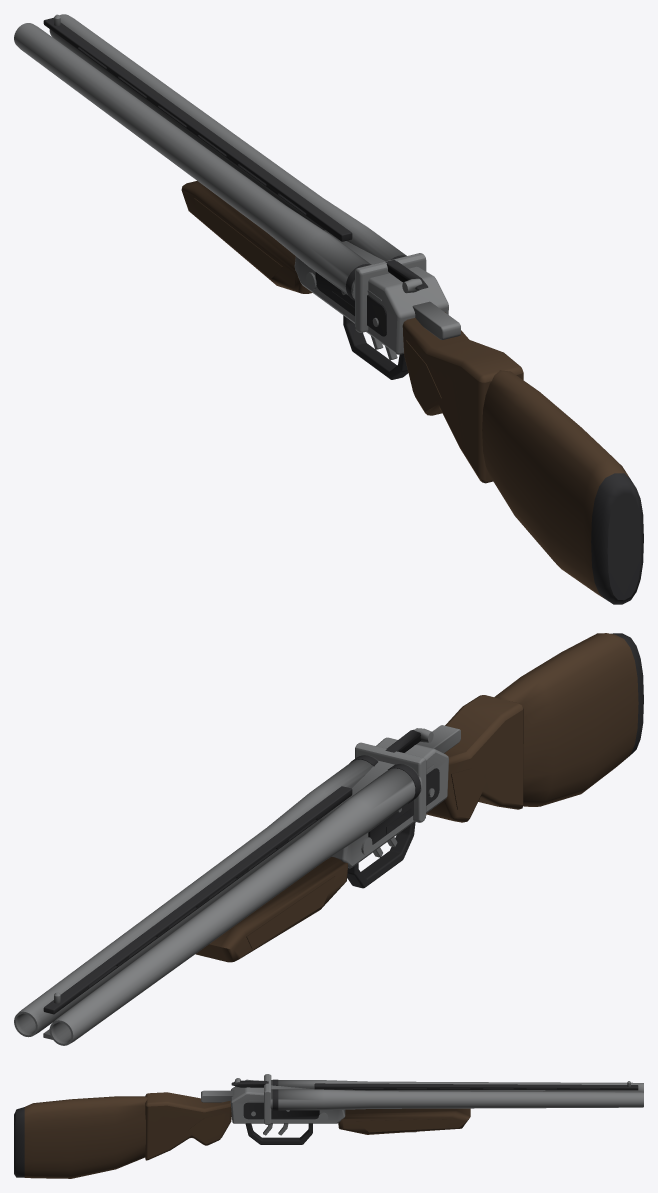
Rendered from coachman_2b.glb.
3 renders of one model, top to bottom at view 1: azimuth 30°, elevation 25°; view 2: azimuth 150°, elevation 25°; view 3: azimuth 270°, elevation 25°, orthographic. The views are drawn at different scales.
Visible parts, largest first — view 1: Stock, Receiver, BarrelL, BarrelR, Foregrip; view 2: Stock, BarrelL, Receiver, BarrelR, Foregrip; view 3: Stock, BarrelR, Receiver, Foregrip, BarrelL, Bolt.
Part boxes in pixels (<box>): Stock: <box>402,312,643,604</box>; Receiver: <box>43,14,460,379</box>; BarrelL: <box>14,23,371,300</box>; BarrelR: <box>49,14,406,261</box>; Foregrip: <box>181,181,312,293</box>; Stock: <box>426,633,643,822</box>; BarrelL: <box>49,763,422,1045</box>; Receiver: <box>43,725,460,1039</box>; BarrelR: <box>14,755,378,1037</box>; Foregrip: <box>195,856,347,962</box>; Stock: <box>14,1092,231,1178</box>; BarrelR: <box>270,1089,643,1110</box>; Receiver: <box>201,1074,638,1144</box>; Foregrip: <box>338,1108,470,1134</box>; BarrelL: <box>271,1079,643,1092</box>; Bolt: <box>231,1080,268,1087</box>.
Bounding box in the file's own units: 0.071 × 0.173 × 1.02.
